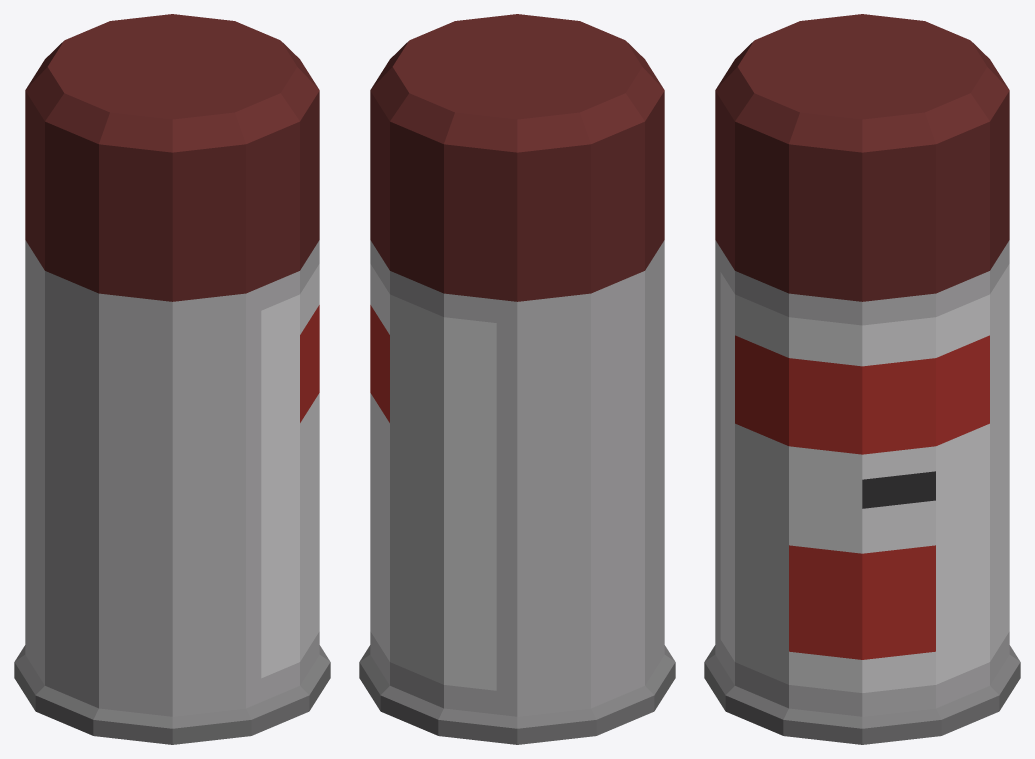
Rendered from SM_spray_Can.gltf.
3 renders of one model, left to right at view 1: azimuth 30°, elevation 25°; view 2: azimuth 150°, elevation 25°; view 3: azimuth 270°, elevation 25°, orthographic.
Visible parts, largest first — view 1: SM_spray_Can; view 2: SM_spray_Can; view 3: SM_spray_Can.
Boxes of the visible parts, x1,y1,x2,y2 form: SM_spray_Can: (14, 14, 330, 744); SM_spray_Can: (359, 14, 675, 744); SM_spray_Can: (704, 14, 1020, 744).
Size of the model in its own units: 0.1544 by 0.3295 by 0.1544.
Materials: 1 (1 with a texture image).
